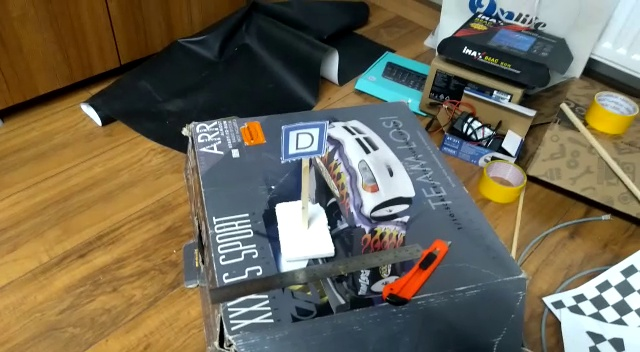durak: (279, 120, 325, 160)
